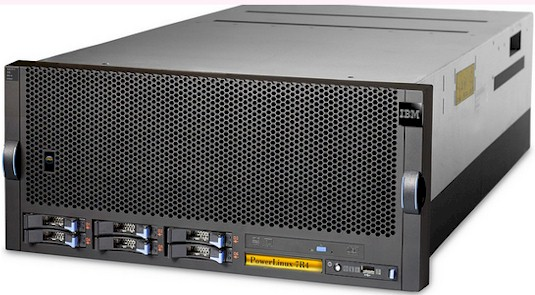ibm-server: (4, 4, 531, 294)
